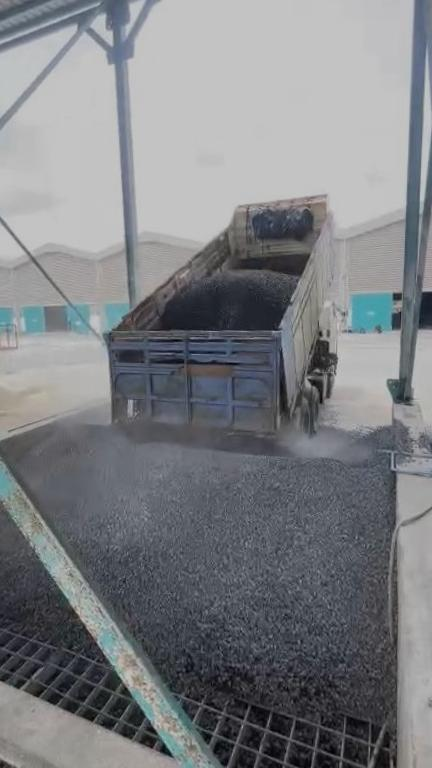gravel: (8, 404, 415, 726), (0, 469, 86, 644), (166, 273, 295, 330)
sand: (0, 378, 49, 429)
